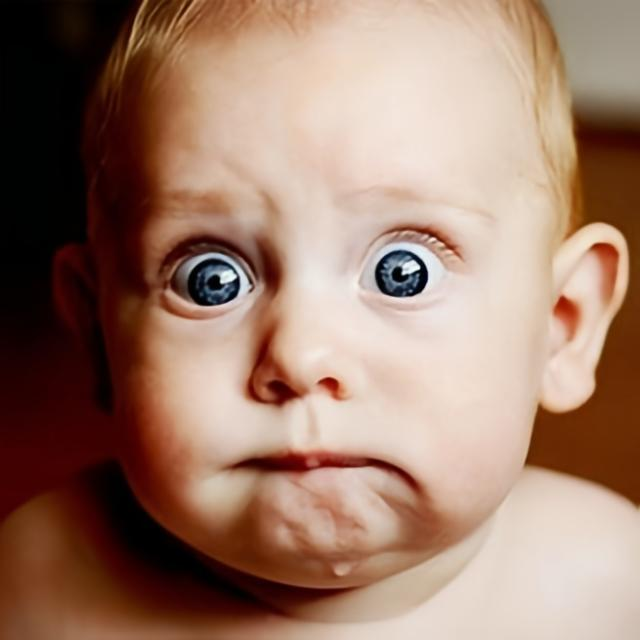fear: (86, 4, 579, 588)
